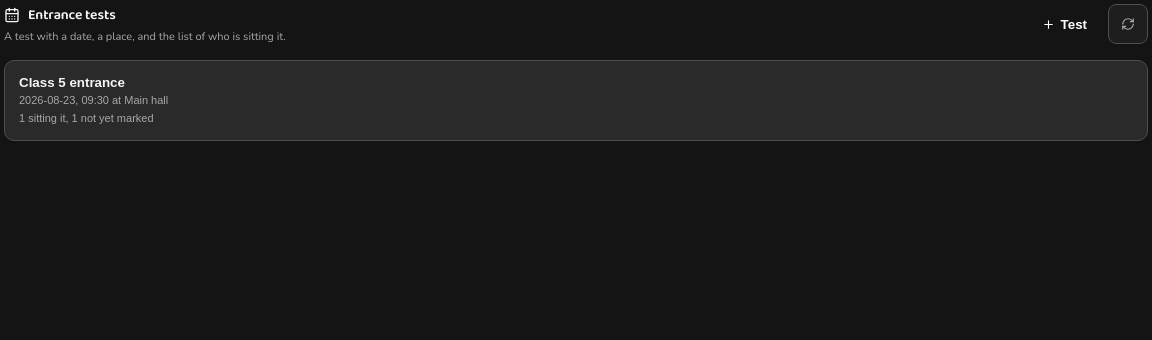
Test case: nobody is shown as absent until somebody says so
This screenshot has width=1152, height=340.
Click the text "Class 5 entrance" at (72, 82), box [19,75,125,90]
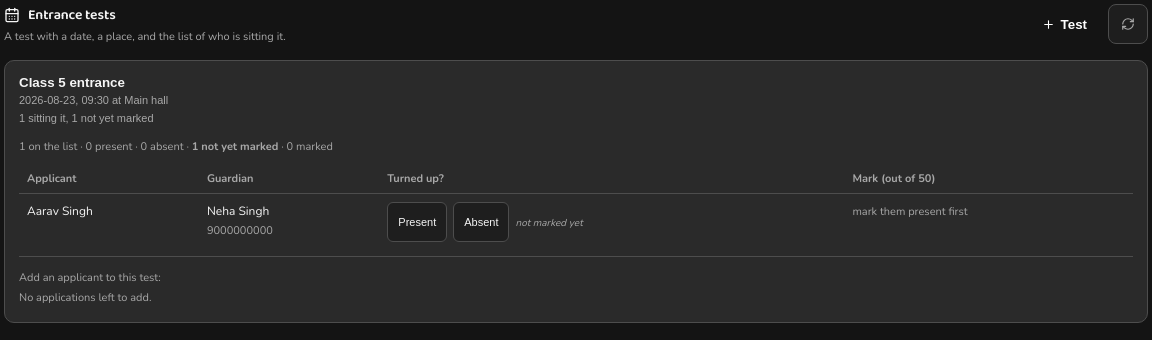
Expected: the text "Aarav Singh" is shown, [19,194,199,257]
Expected: the text "not marked yet" is shown, [516,216,583,230]
Expected: the text "1 not yet marked" is shown, [192,139,278,154]
